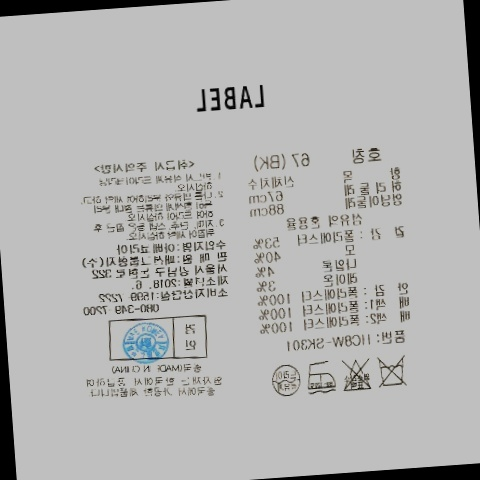DN_bleach: (337, 354, 371, 394)
DN_wash: (373, 351, 410, 391)
dry_clean_petrol_only: (267, 362, 303, 399)
iron_low: (304, 357, 337, 396)
